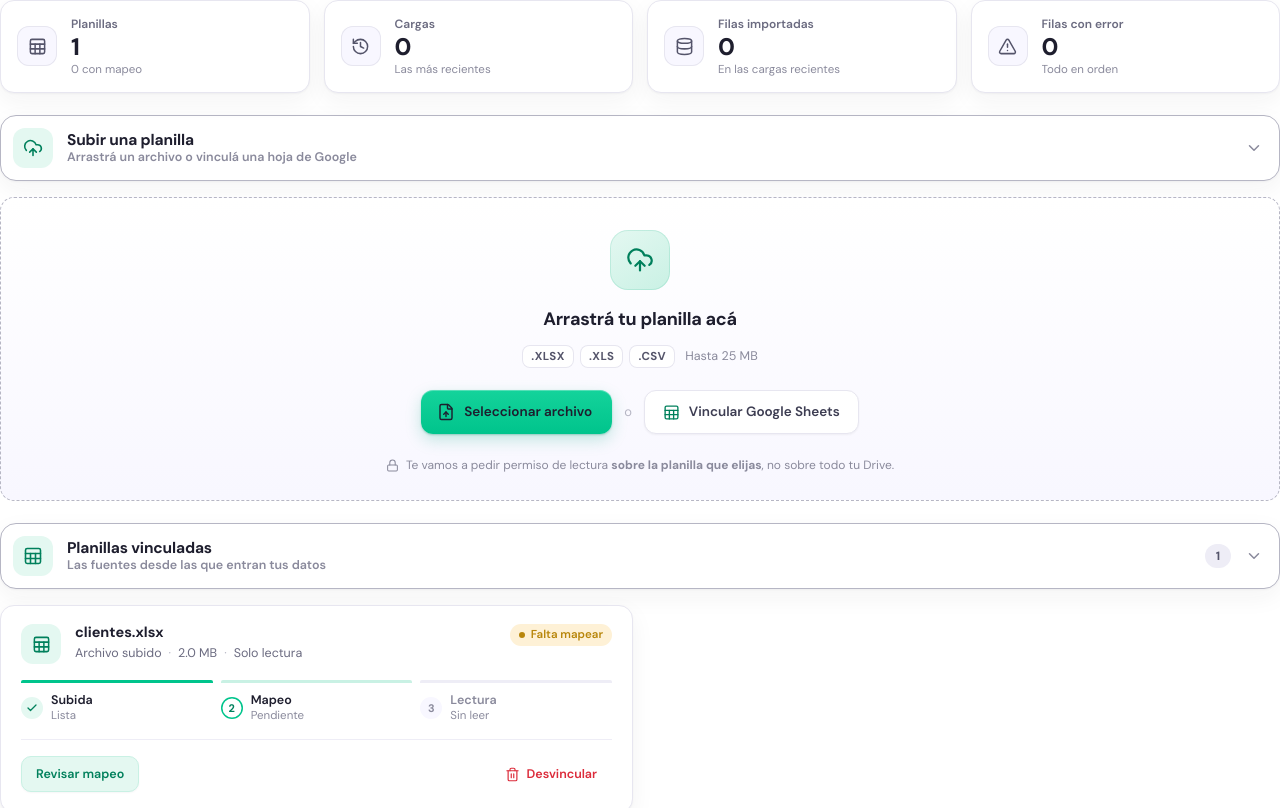
Test: IngestaDePlanillas › desvincula y avisa que los datos importados se quedan
The width and height of the screenshot is (1280, 808).
Click the button "Desvincular".
click(551, 774)  # box [490,754,612,794]
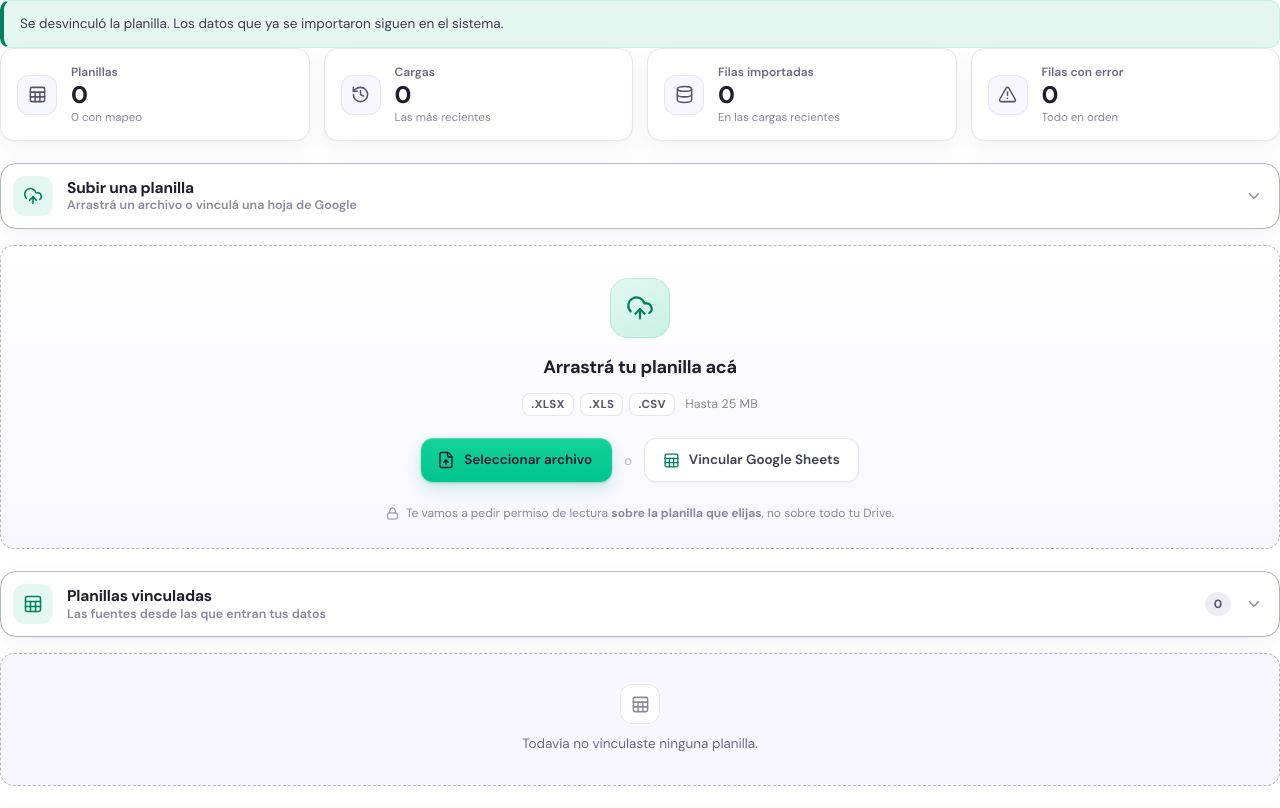
Now the text "siguen en el sistema" is shown, box [20,15,503,32]
